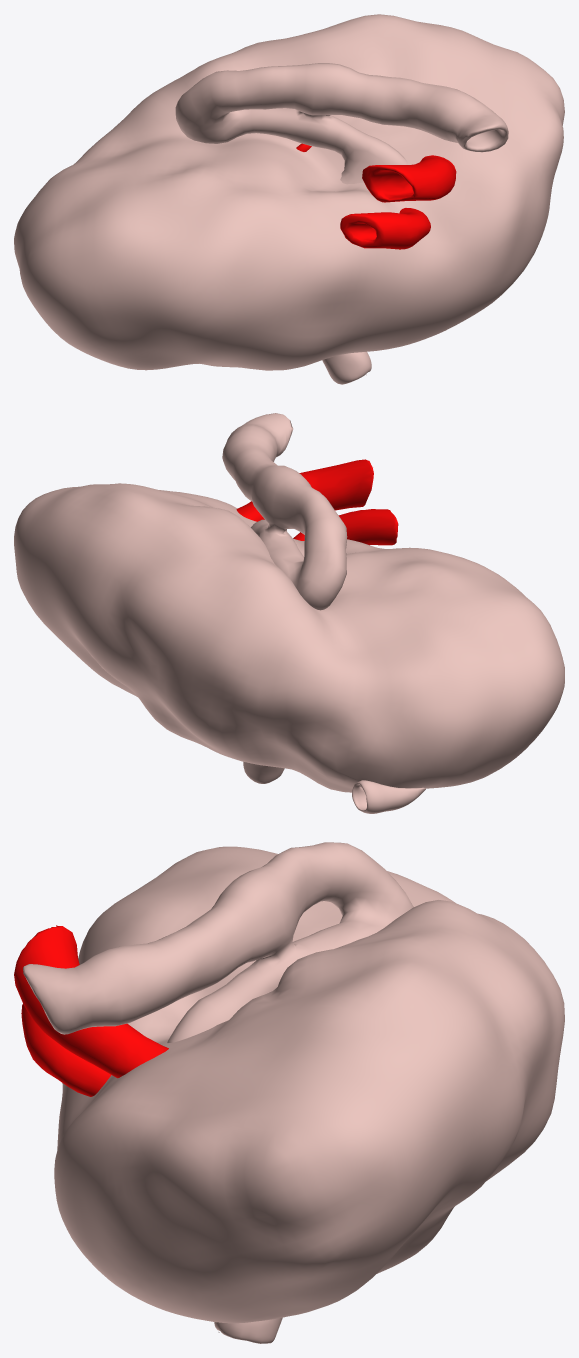
File: NIH_F_Lymph_Node.glb
3 renders of one model, top to bottom at view 1: azimuth 30°, elevation 25°; view 2: azimuth 150°, elevation 25°; view 3: azimuth 270°, elevation 25°, orthographic. The views are drawn at different scales.
Visible parts, largest first — view 1: Yao_capsule_of_lymph_node, Yao_efferent_lymph_node, Yao_blood_vasculature, Yao_afferent_lymphatic_vessel; view 2: Yao_capsule_of_lymph_node, Yao_efferent_lymph_node, Yao_blood_vasculature, Yao_afferent_lymphatic_vessel; view 3: Yao_capsule_of_lymph_node, Yao_efferent_lymph_node, Yao_blood_vasculature, Yao_afferent_lymphatic_vessel.
Boxes of the visible parts, box(x1,y1,x2,y2) form: Yao_capsule_of_lymph_node: box(14, 14, 564, 370); Yao_efferent_lymph_node: box(175, 63, 508, 184); Yao_blood_vasculature: box(296, 143, 456, 249); Yao_afferent_lymphatic_vessel: box(322, 352, 371, 384); Yao_capsule_of_lymph_node: box(14, 483, 564, 792); Yao_efferent_lymph_node: box(222, 413, 347, 610); Yao_blood_vasculature: box(236, 459, 398, 545); Yao_afferent_lymphatic_vessel: box(243, 761, 425, 813); Yao_capsule_of_lymph_node: box(54, 846, 564, 1323); Yao_efferent_lymph_node: box(23, 842, 413, 1042); Yao_blood_vasculature: box(14, 925, 168, 1096); Yao_afferent_lymphatic_vessel: box(214, 1317, 282, 1343).
Bounding box in the file's own units: 0.0196 × 0.0113 × 0.0125.
